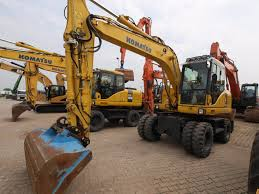excavator: (29, 2, 235, 192), (0, 41, 140, 125), (209, 37, 259, 112)
